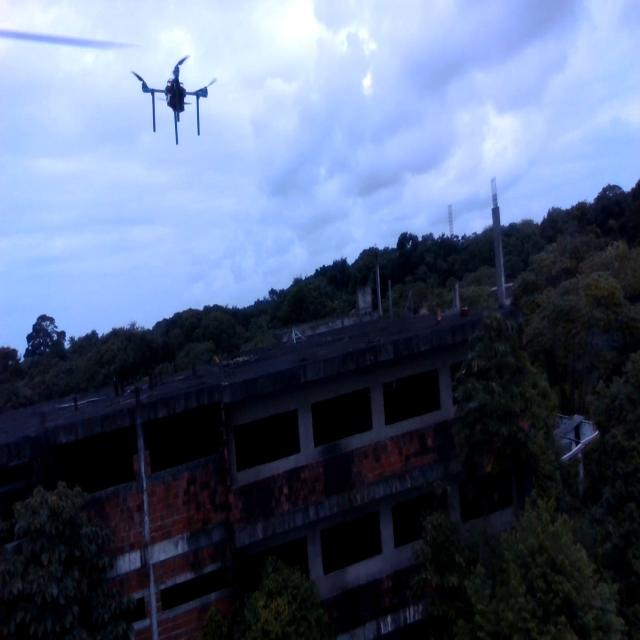-uav-: (122, 44, 231, 163)
